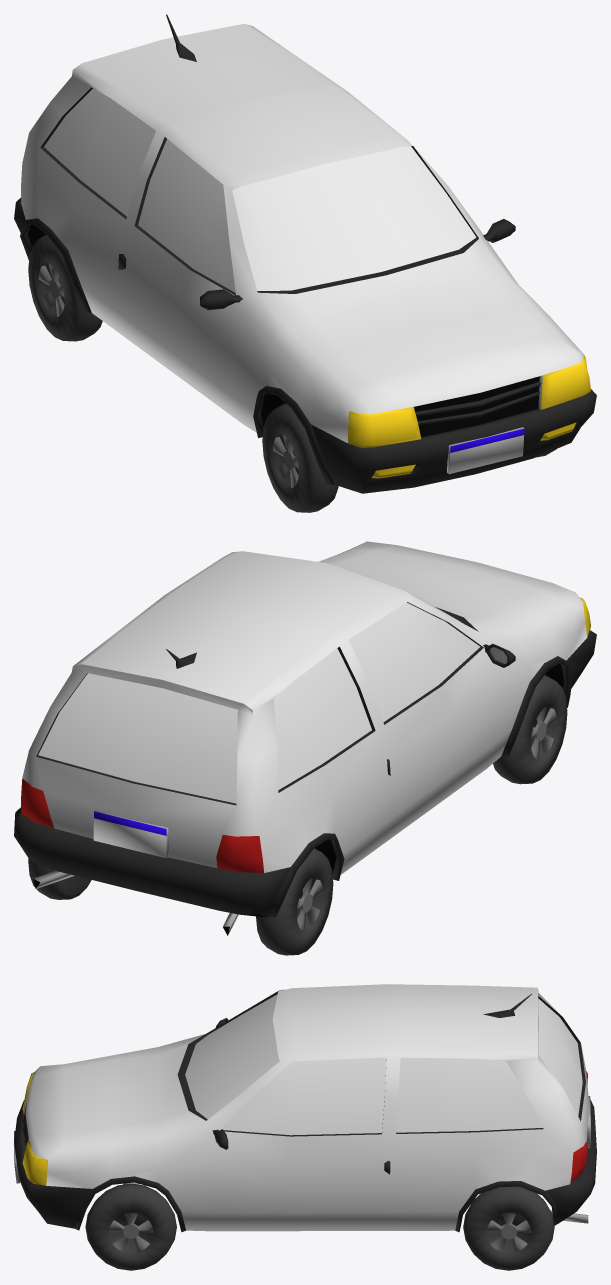
The model's file is 5E_Uno.fbx.
3 views of the same model, one above another, from view 1: azimuth 30°, elevation 25°; view 2: azimuth 150°, elevation 25°; view 3: azimuth 270°, elevation 25° (orthographic). The views are drawn at different scales.
Visible parts, largest first — view 1: Uno, Uno_FD, Uno_TD; view 2: Uno, Uno_TD, Uno_FD, Uno_TE; view 3: Uno, Uno_FE, Uno_TE.
Part boxes in pixels (left/top/right/bottom): Uno: left=14, top=14, right=596, bottom=493; Uno_FD: left=262, top=403, right=338, bottom=512; Uno_TD: left=28, top=235, right=102, bottom=341; Uno: left=14, top=541, right=596, bottom=935; Uno_TD: left=256, top=848, right=333, bottom=955; Uno_FD: left=493, top=675, right=567, bottom=784; Uno_TE: left=28, top=858, right=91, bottom=899; Uno: left=14, top=984, right=596, bottom=1232; Uno_FE: left=85, top=1183, right=176, bottom=1270; Uno_TE: left=463, top=1186, right=554, bottom=1270.
Bounding box in the file's own units: 181 × 157 × 361.
